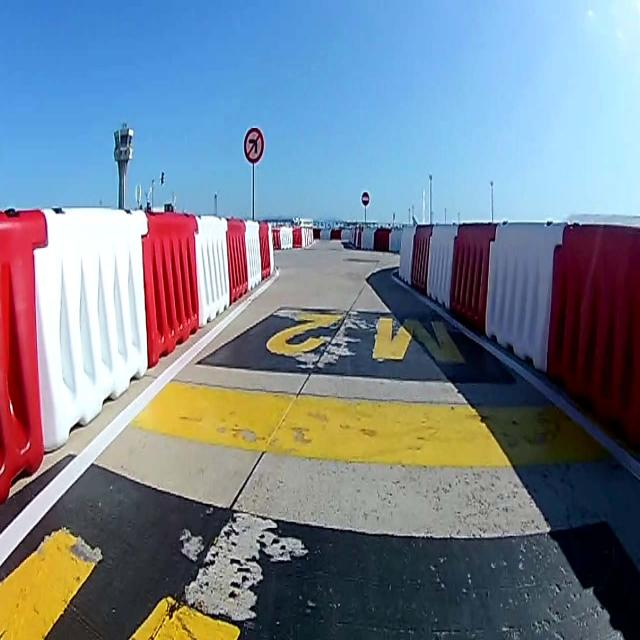girisyok: (360, 190, 370, 205)
soladonulmez: (245, 127, 265, 165)
